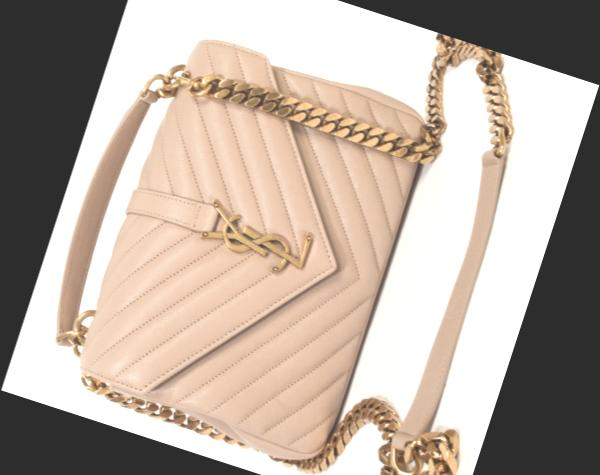YVES-SAINT-LAURENT: (196, 197, 314, 280)
